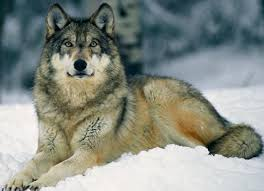Lobo: (14, 1, 257, 177)
